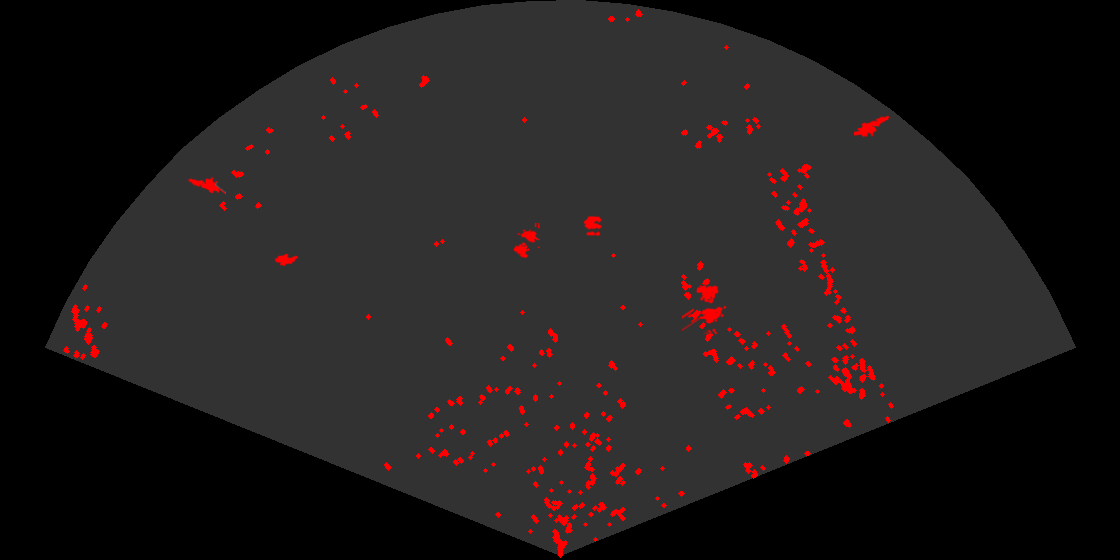AUV: (273, 252, 300, 268)
ball: (582, 214, 604, 237)
cage: (682, 284, 728, 334), (512, 223, 540, 260)
frogman: (854, 114, 891, 139), (186, 175, 226, 196)
